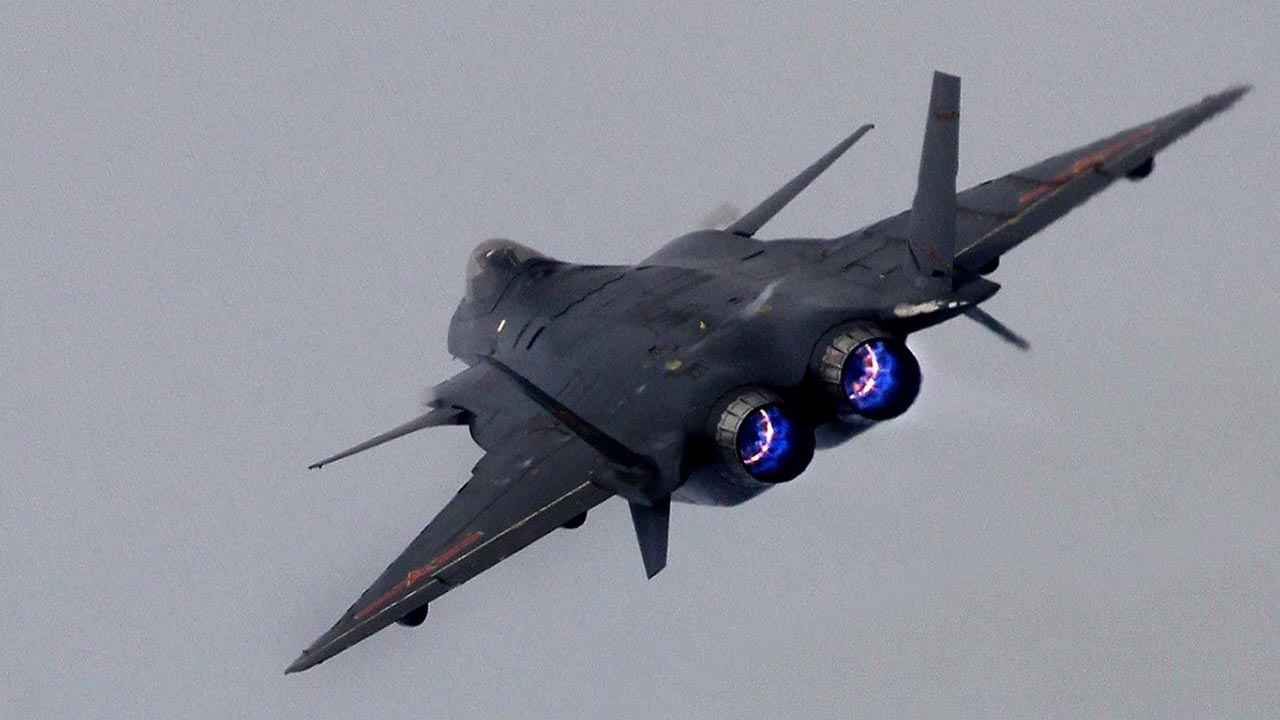J20: (283, 69, 1254, 676)
